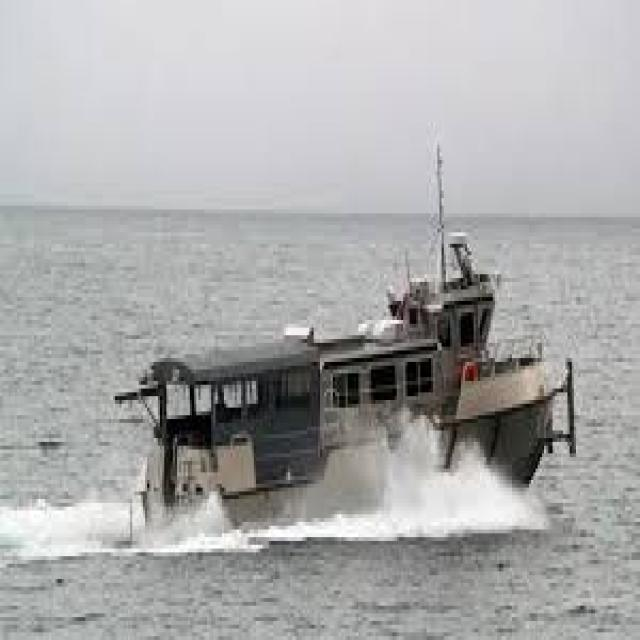houseboat: (130, 225, 580, 532)
